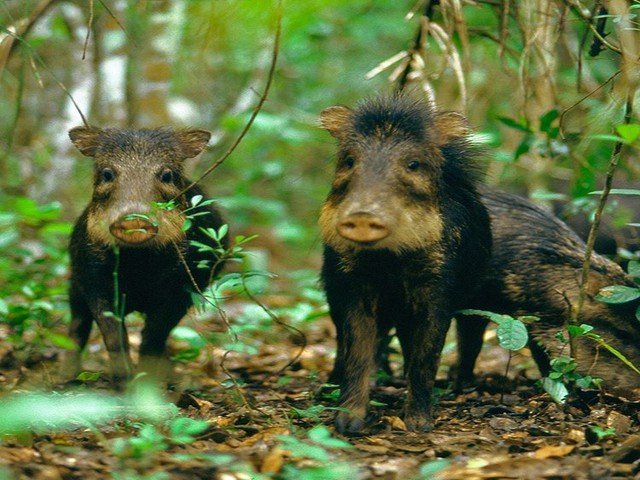Pig: (310, 100, 619, 422), (64, 118, 233, 372)
